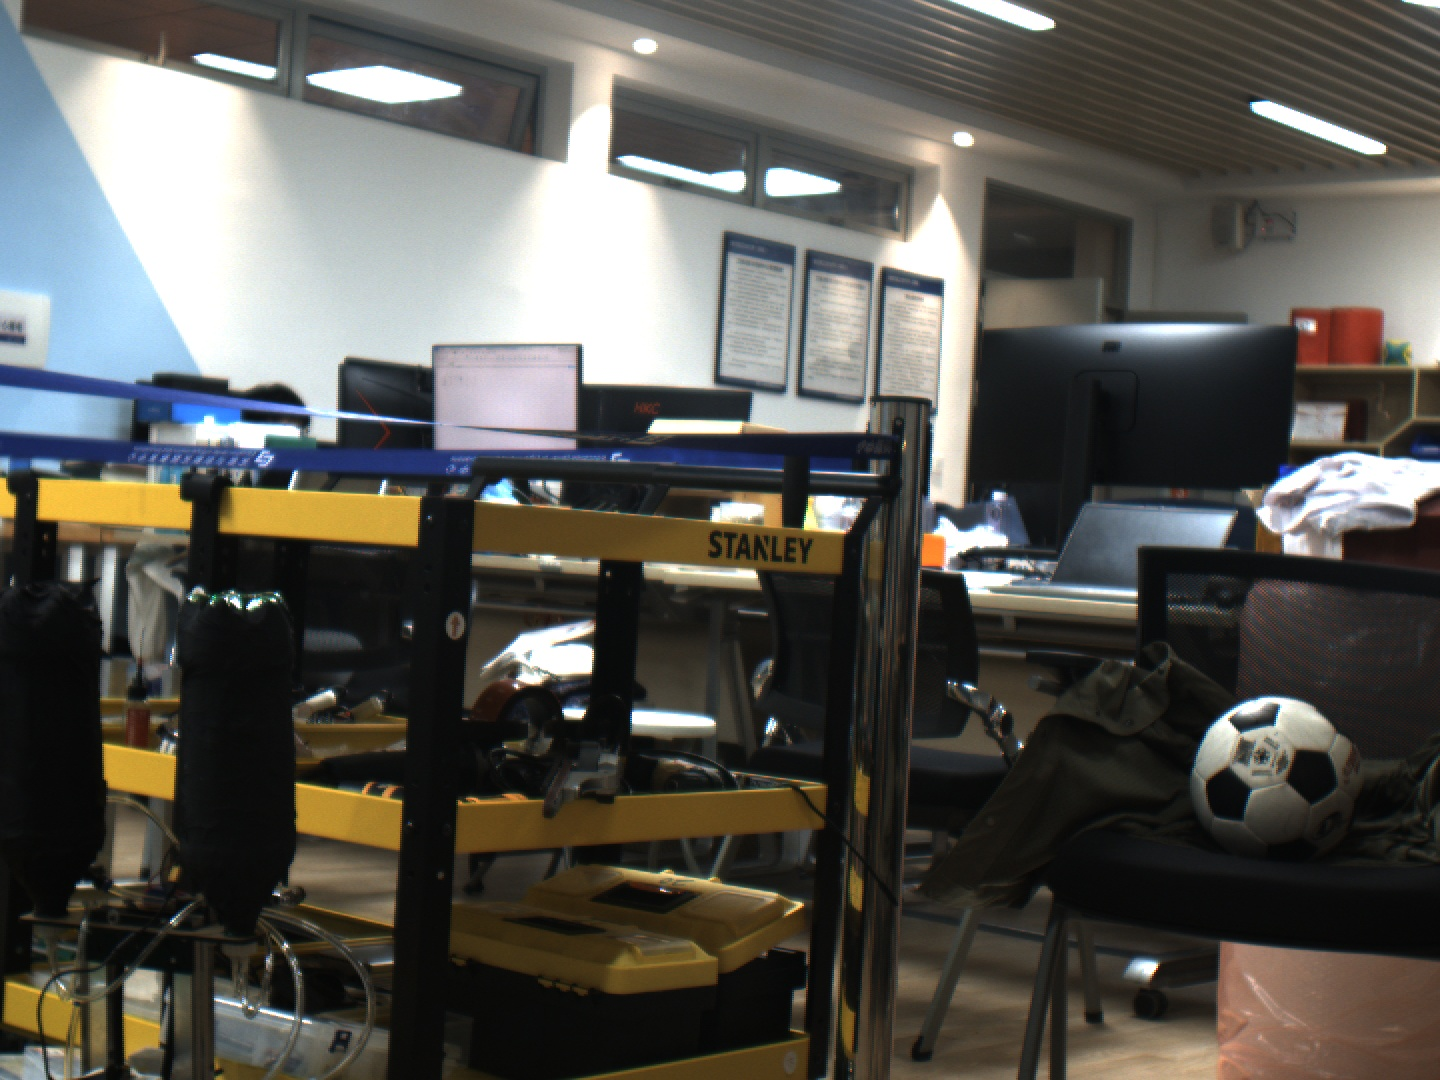ball: (1188, 703, 1361, 857)
